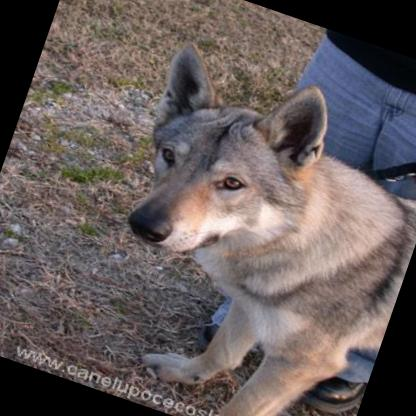German_shepherd: (59, 35, 416, 416)
